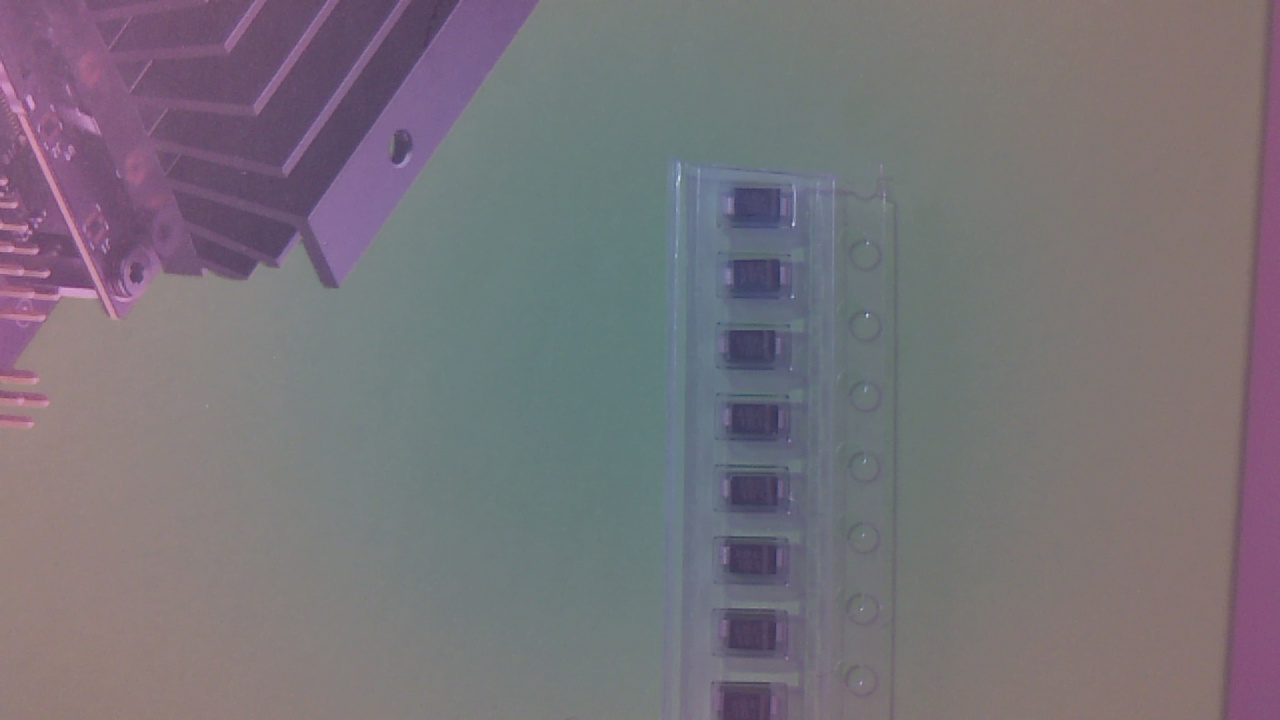Diode: (726, 187, 793, 229), (724, 615, 790, 656), (724, 262, 795, 300), (724, 543, 789, 583), (724, 474, 792, 512), (721, 332, 792, 368), (727, 404, 793, 441)
